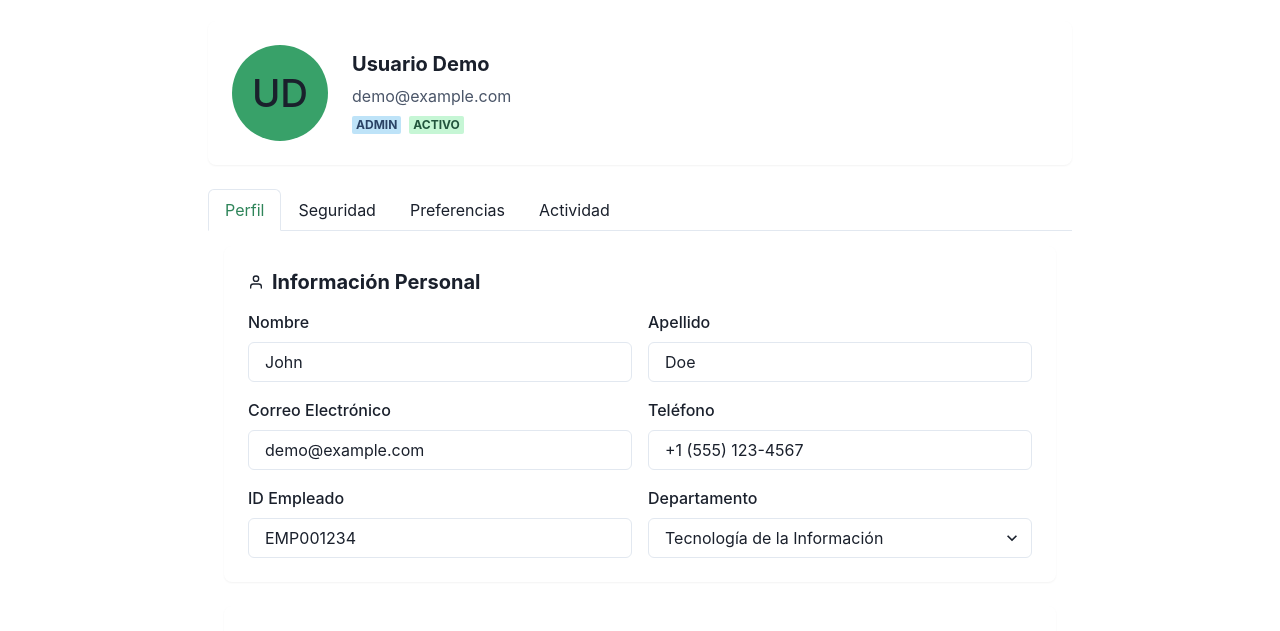
Test: Profile page - interacción MFA › muestra panel MFA adicional al activar el switch
Step 1. Click the tab "Seguridad" → click(337, 210), box left=281, top=189, right=393, bottom=231
(page scrolled)
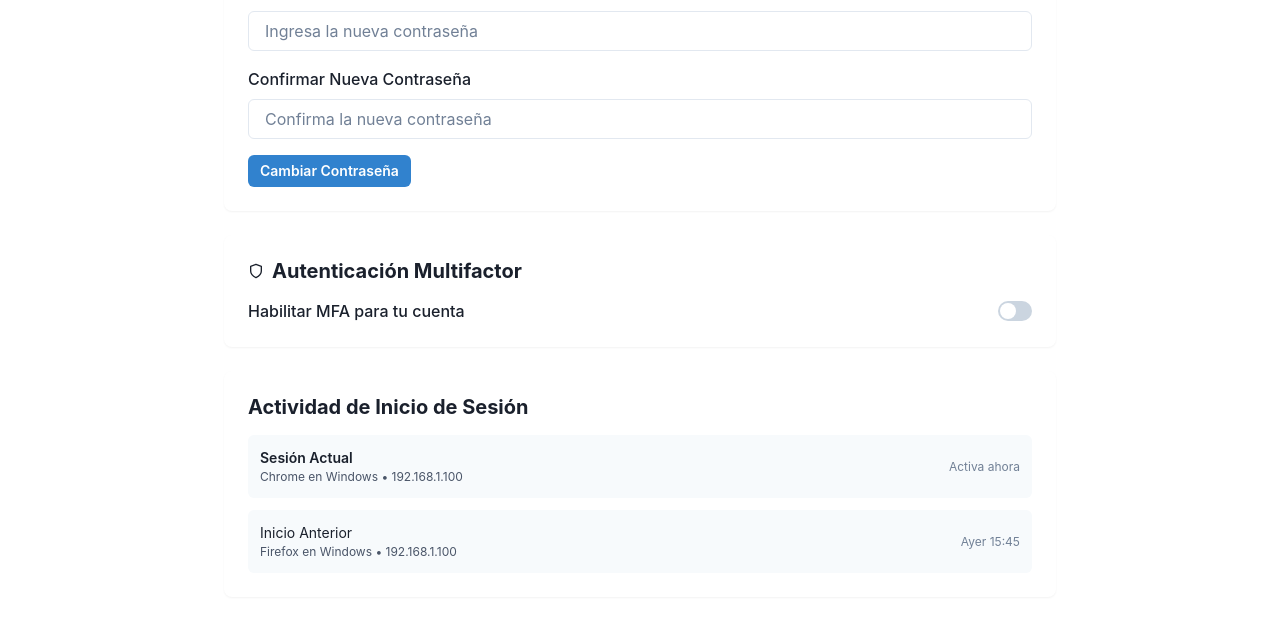
Expected: the checkbox labelled "Habilitar MFA para tu cuenta" is shown
Step 2. Click the checkbox labelled "Habilitar MFA para tu cuenta" → click(356, 311), box left=248, top=301, right=465, bottom=321
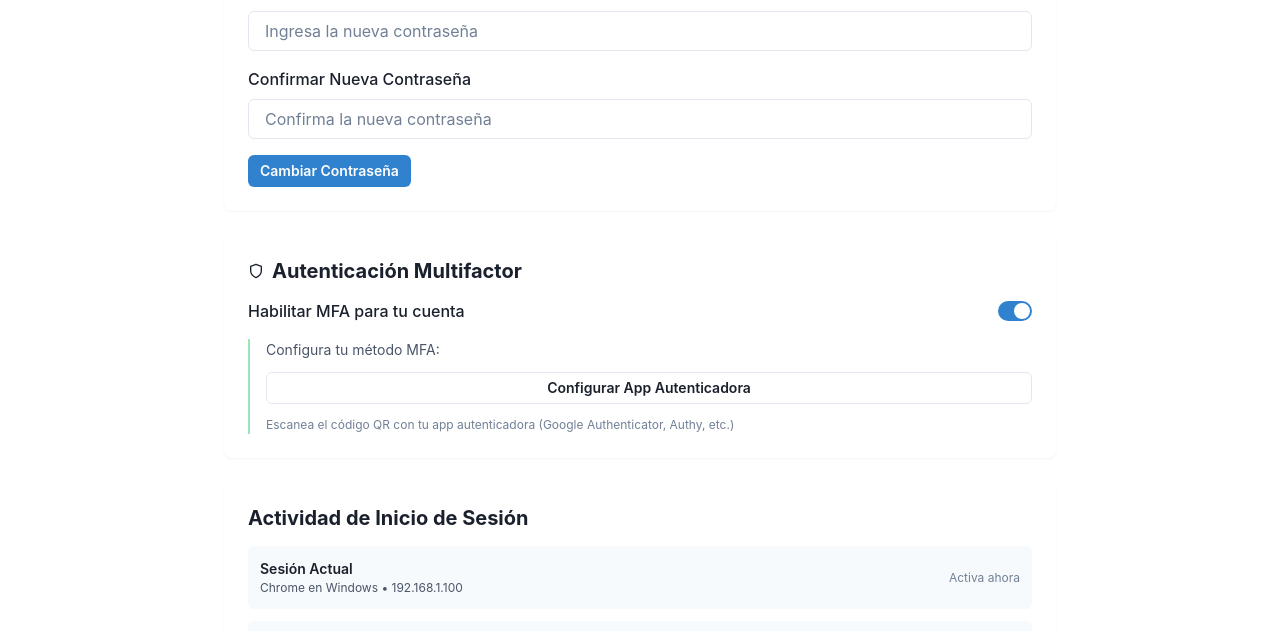
Expected: the text "Configura tu método MFA:" is shown, left=266, top=341, right=440, bottom=358
